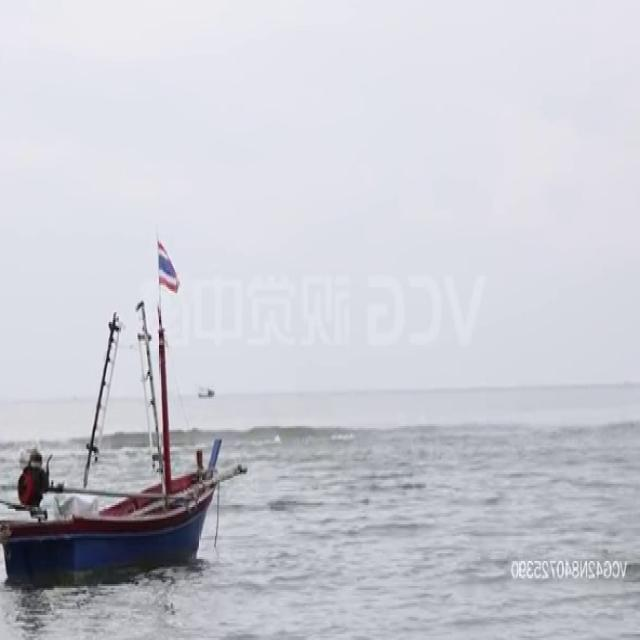fishing boat: (0, 250, 242, 579)
